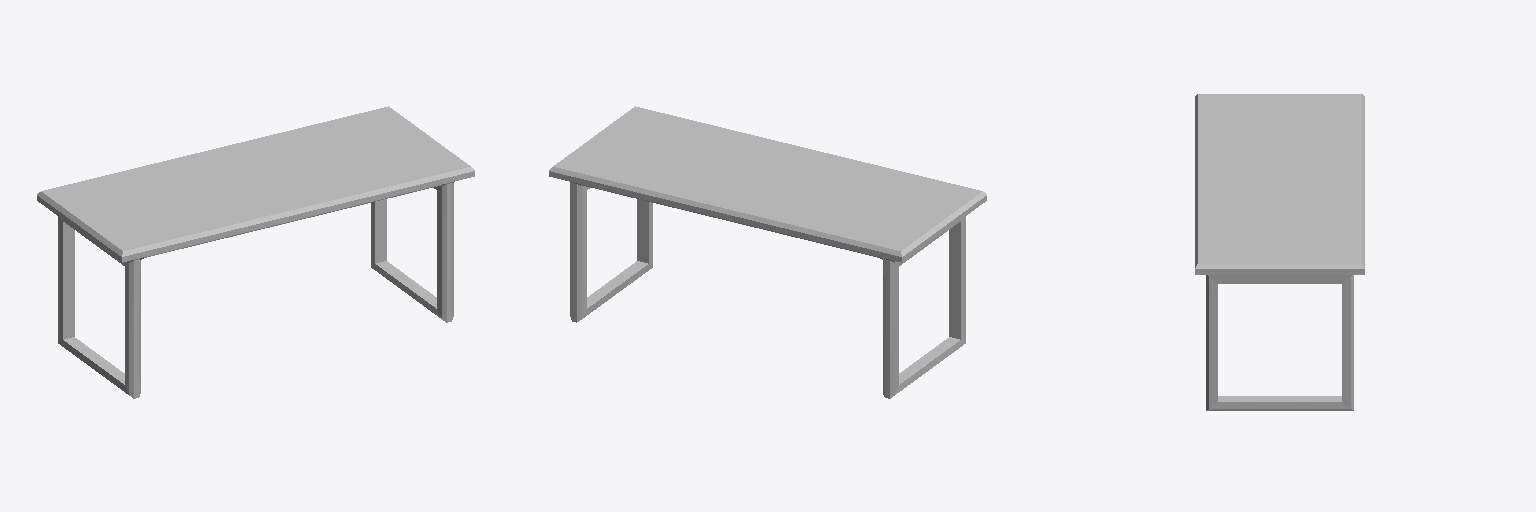
Rendered from table.obj.
The picture shows the model from 3 angles: view 1: azimuth 30°, elevation 25°; view 2: azimuth 150°, elevation 25°; view 3: azimuth 270°, elevation 25°; orthographic projection.
Visible parts, largest first — view 1: table; view 2: table; view 3: table.
Boxes of the visible parts, x1,y1,x2,y2 form: table: [37, 106, 474, 398]; table: [549, 106, 986, 398]; table: [1195, 94, 1364, 410].
Size of the model in its own units: 1.8 by 0.75 by 0.75.